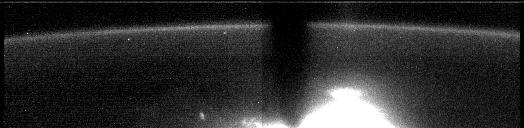negative: (326, 87, 366, 103)
